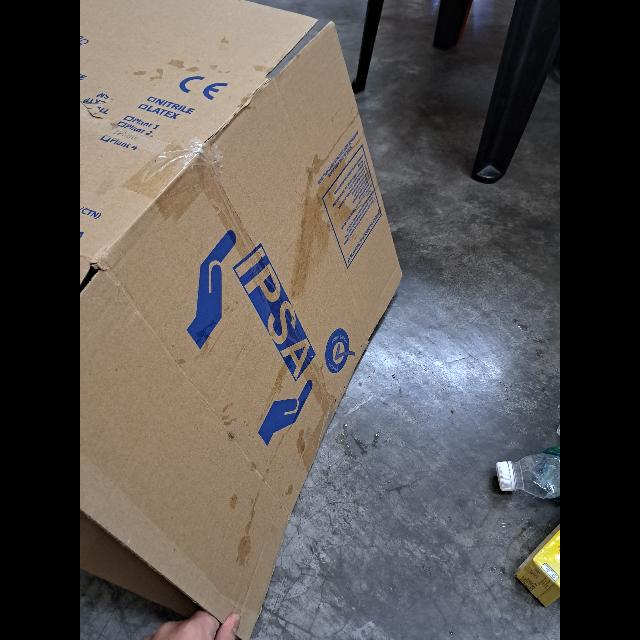caixinha: (516, 521, 560, 607)
garrafa plástica: (496, 446, 560, 502)
papelão: (80, 0, 400, 640)
tampa plástica: (497, 458, 515, 494)
